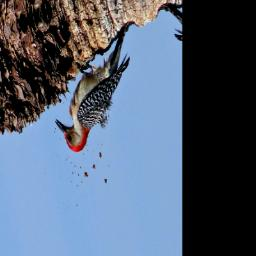Woodpecker: (43, 20, 148, 162)
